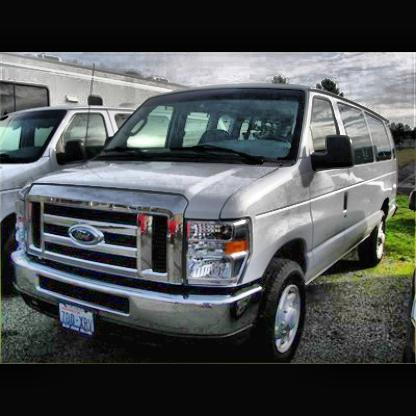Ford E-Series Wagon Van 2012: (14, 87, 401, 361)
